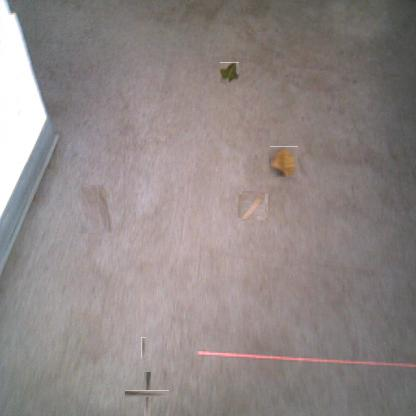dirty: (270, 147, 299, 177), (239, 192, 266, 220), (219, 62, 239, 83)
mark: (78, 185, 112, 233), (135, 381, 160, 407), (141, 337, 146, 358)
